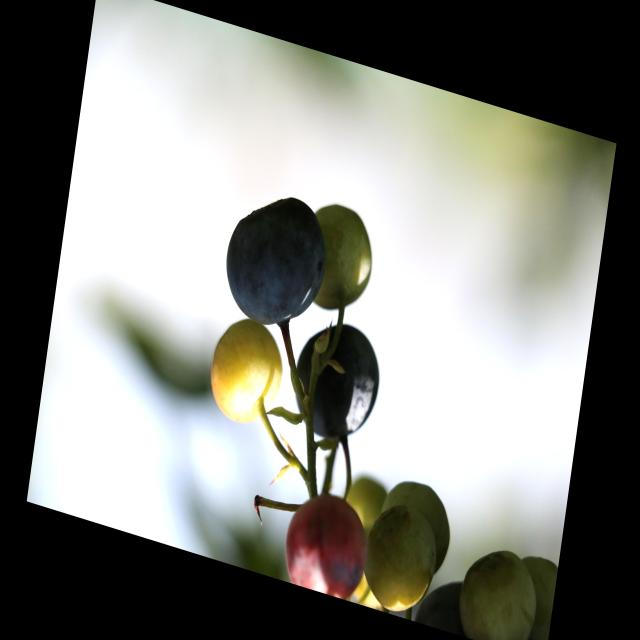blueberry: (215, 176, 340, 345), (286, 309, 387, 450)
blueberry-halfripe: (275, 475, 376, 605)
blueberry-unripe: (198, 311, 289, 435), (302, 198, 382, 324), (354, 498, 442, 612), (449, 534, 543, 640)
